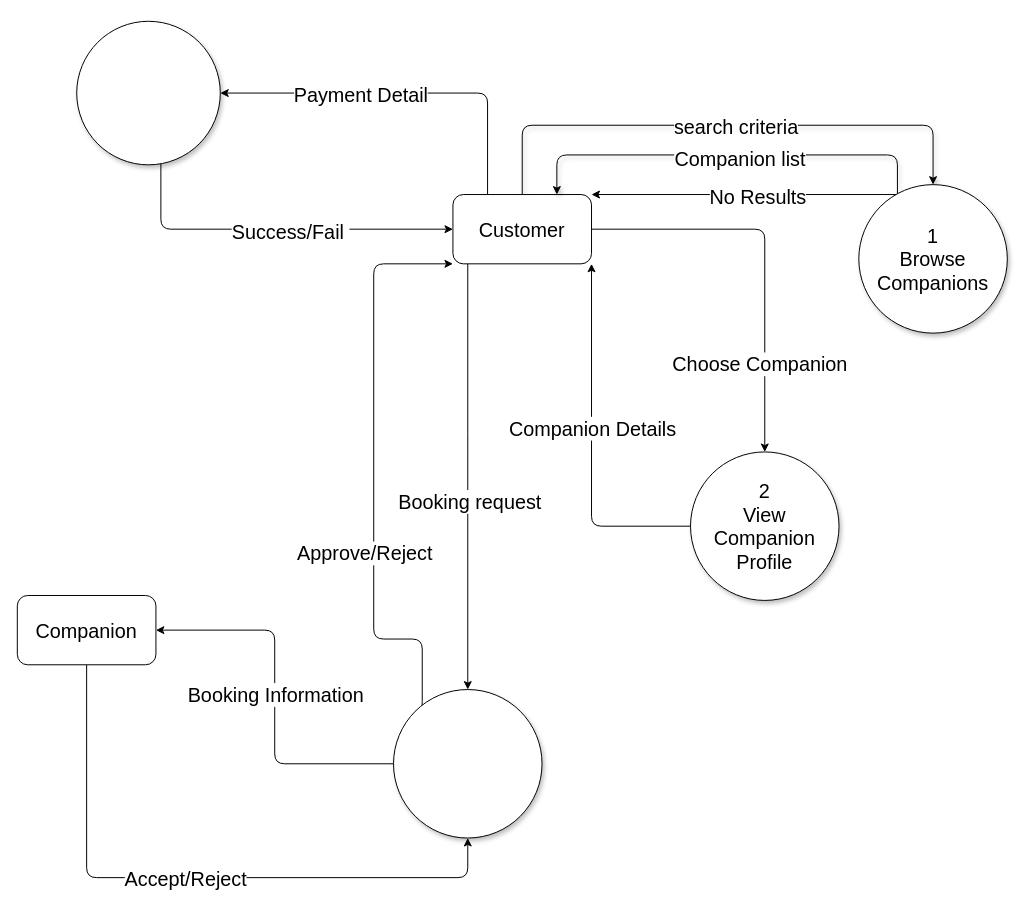
Image size: 1031x907. Some labels were removed from this diagram. The shapes that lost their labels are listed below. From the top down, each one's centre as x and y in pixels, then its label:
(149,94): 4 Process Payment
(468,765): 3 Create Booking Request
